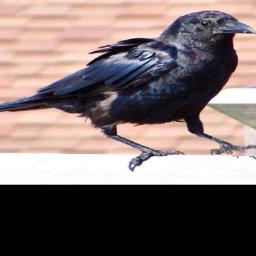Crow: (0, 10, 256, 172)
